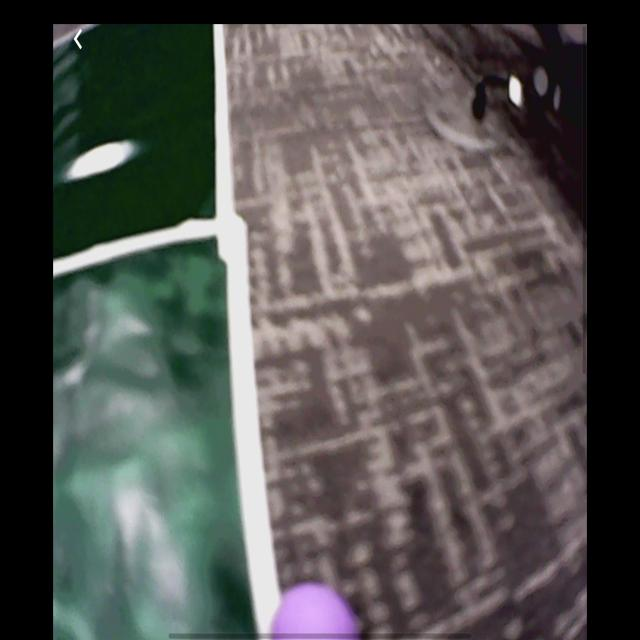ball: (269, 581, 363, 639)
